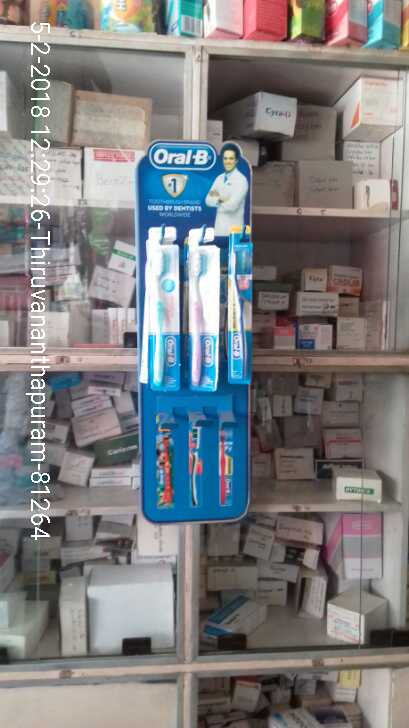oralb: (146, 222, 178, 393), (189, 230, 218, 388), (226, 225, 255, 383)
